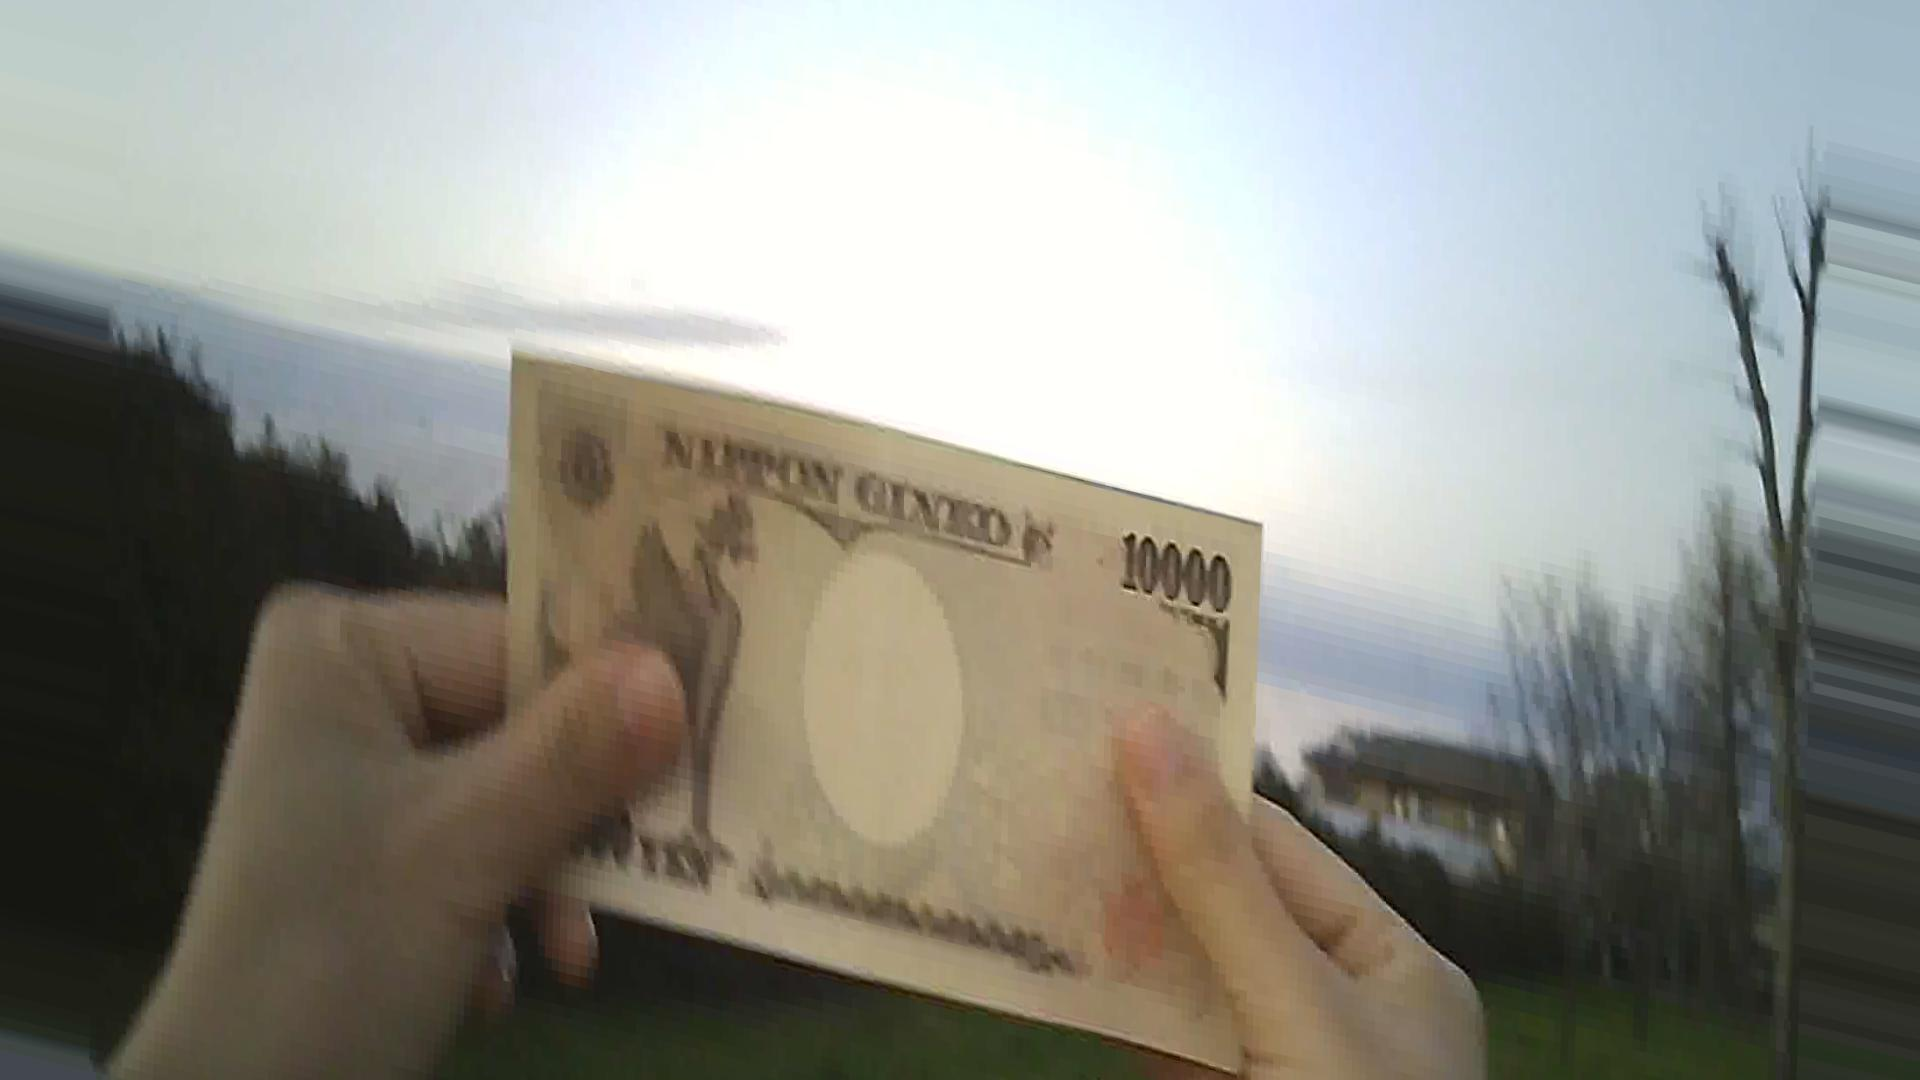10,000 Yen: (473, 338, 1265, 1033)
